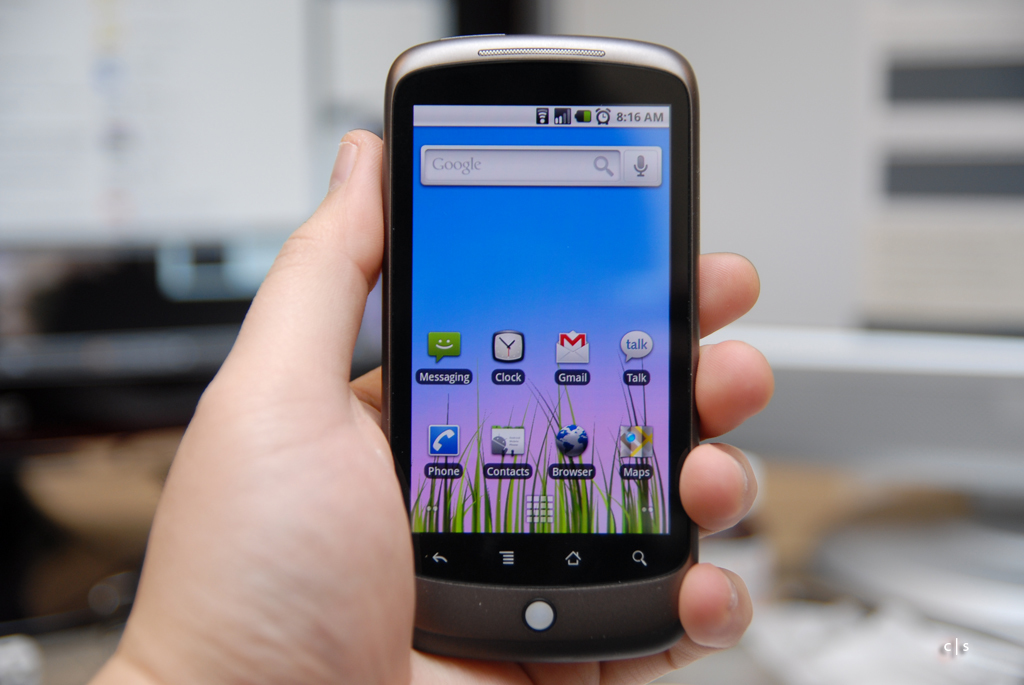Mobile-phone: (382, 32, 722, 658)
